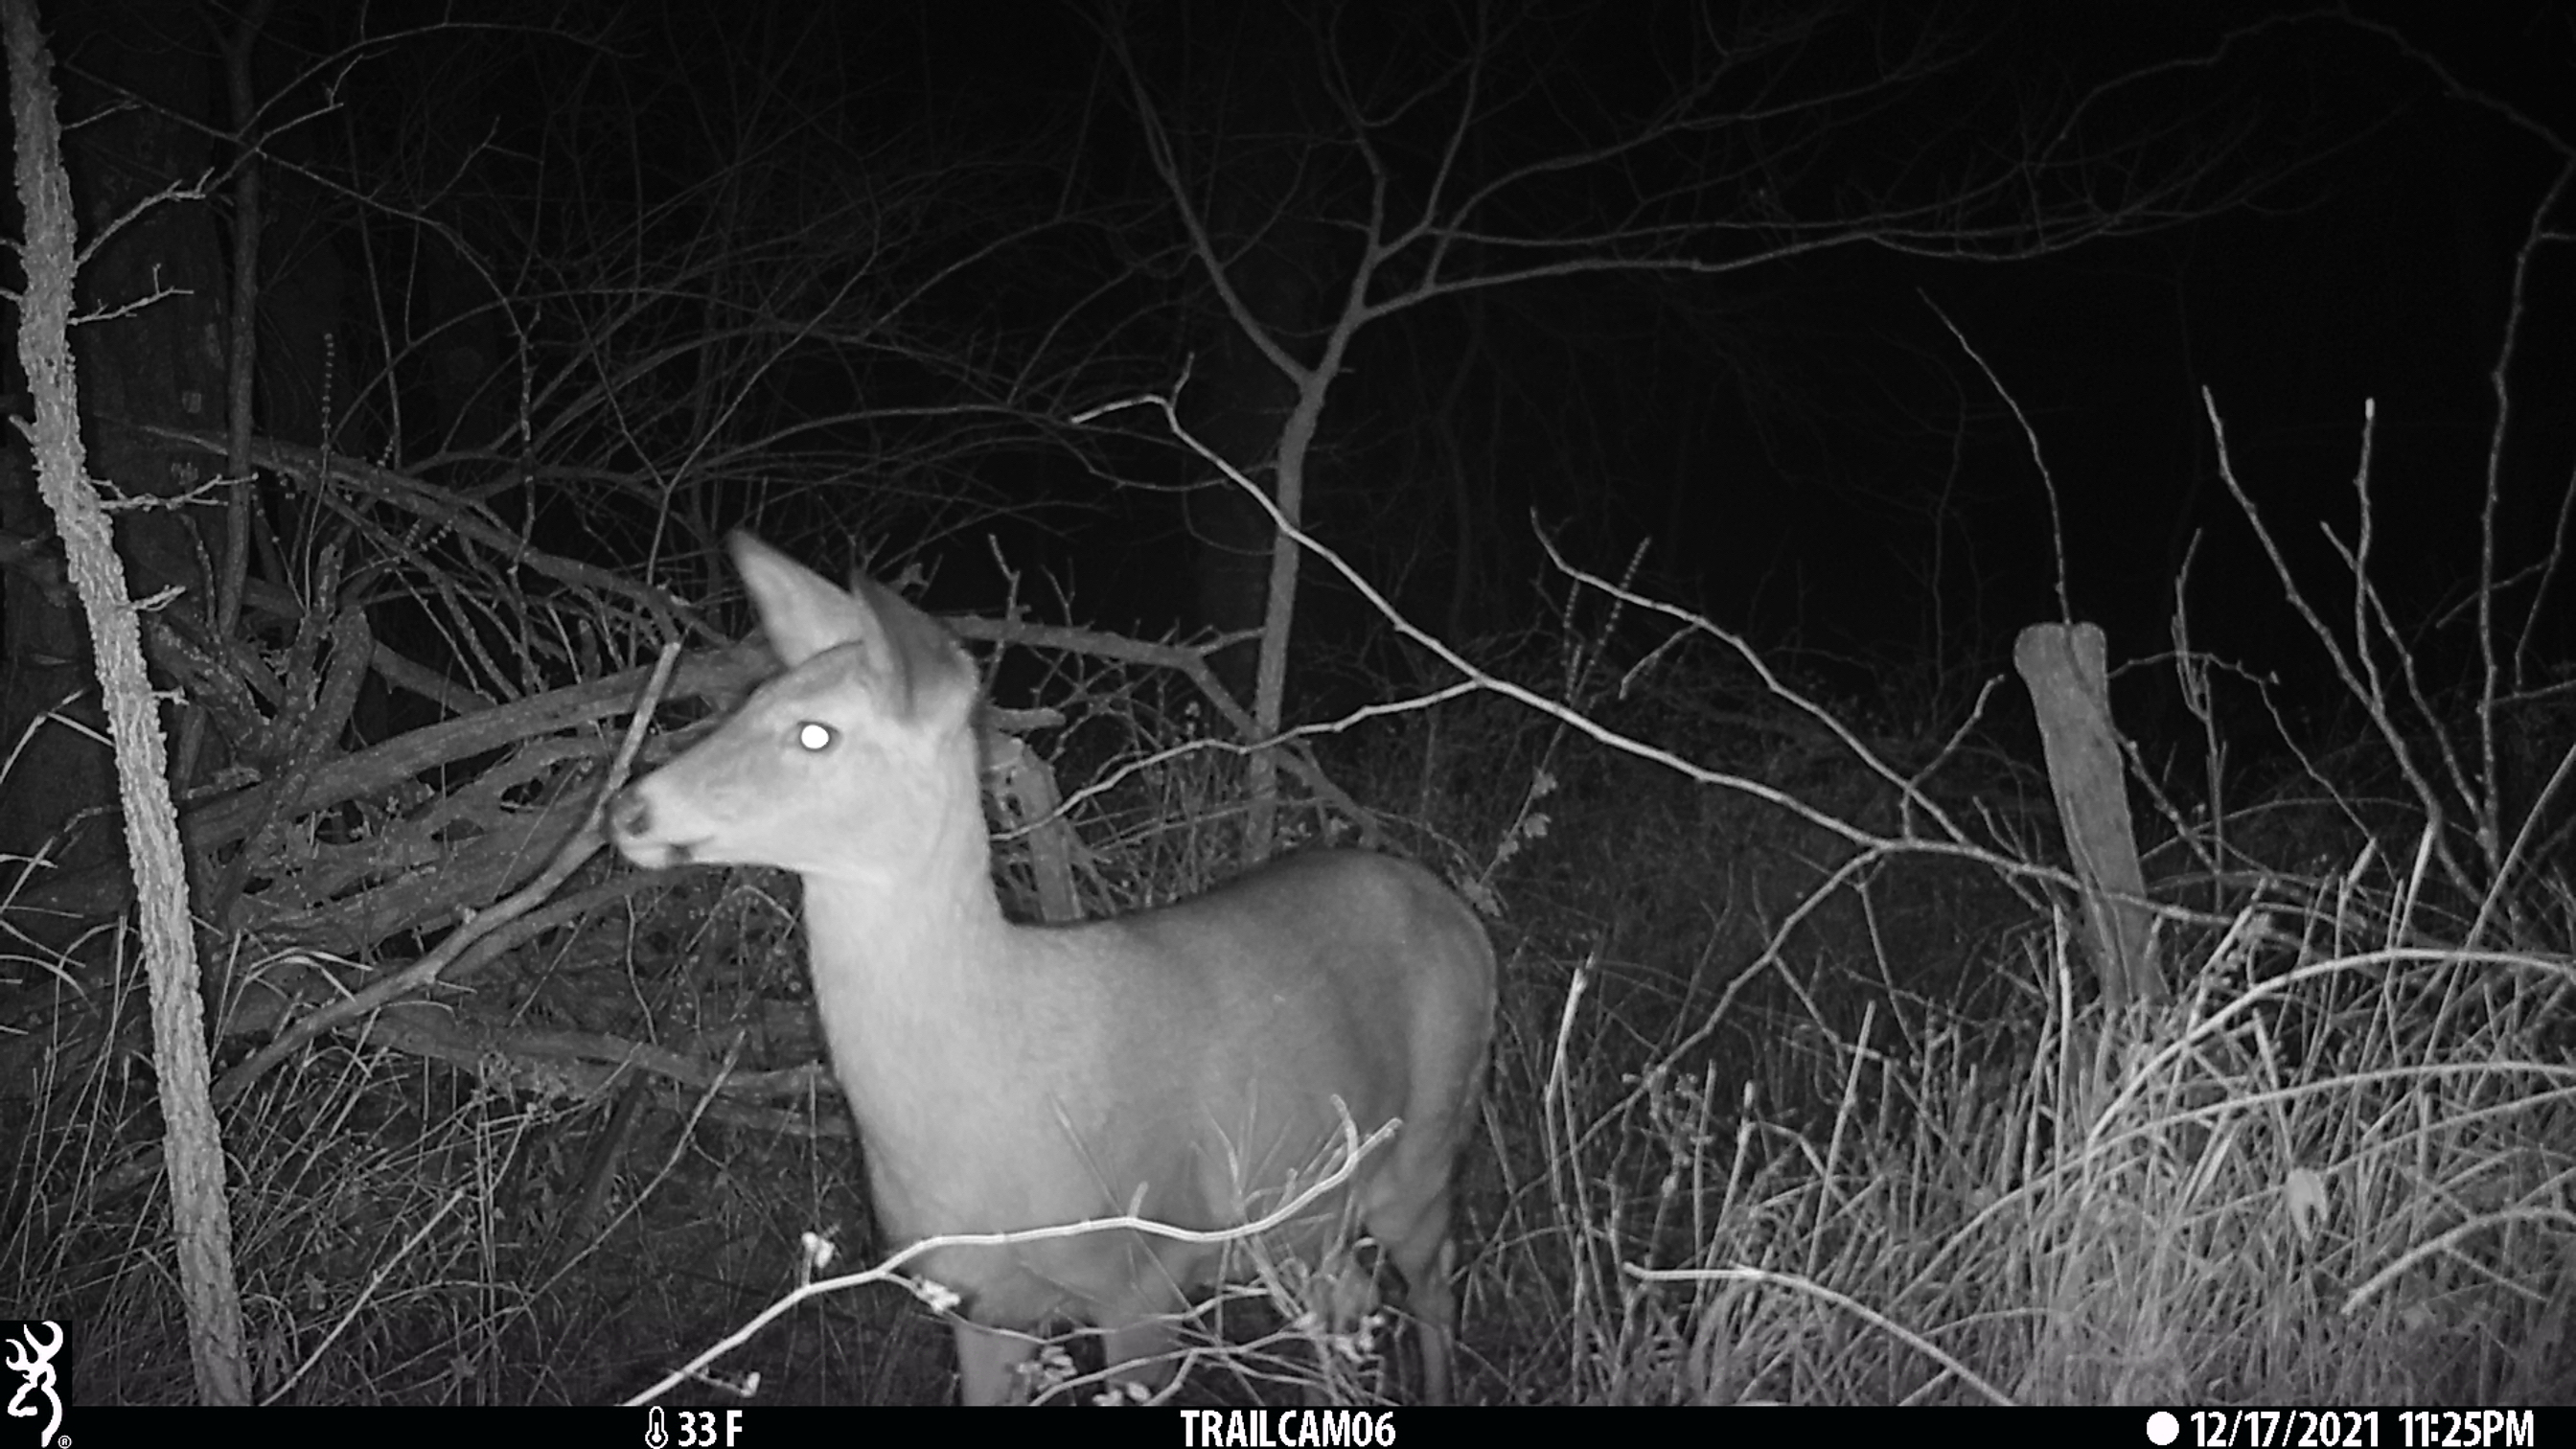DeerDoe: (600, 522, 1502, 1405)
